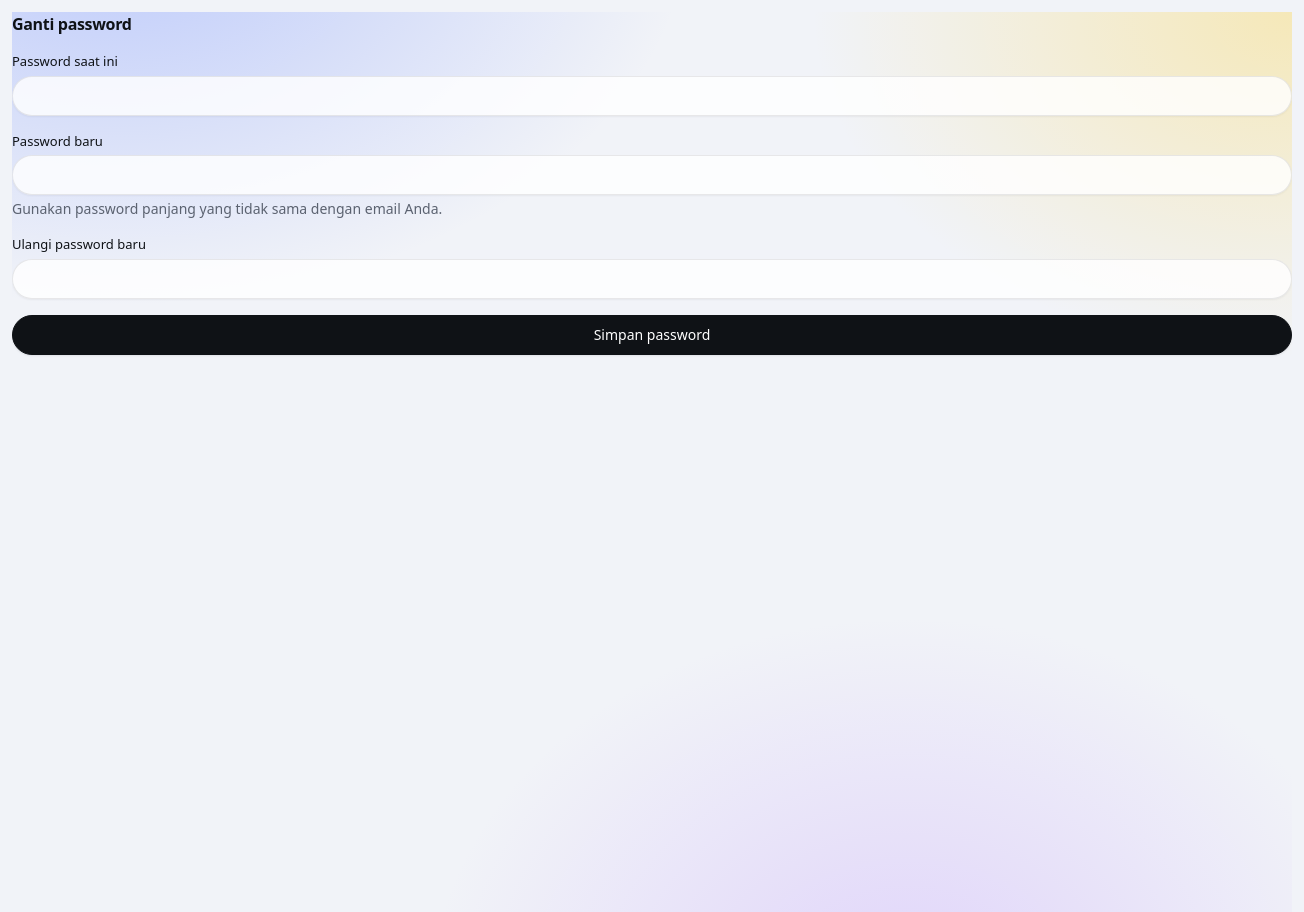
Scenario: ChangePasswordView › rate limit starts cooldown
The width and height of the screenshot is (1304, 912).
Type "sementara-1" into the password field labelled "Password saat ini".
click(652, 96); type("sementara-1")  # box [12,76,1292,116]
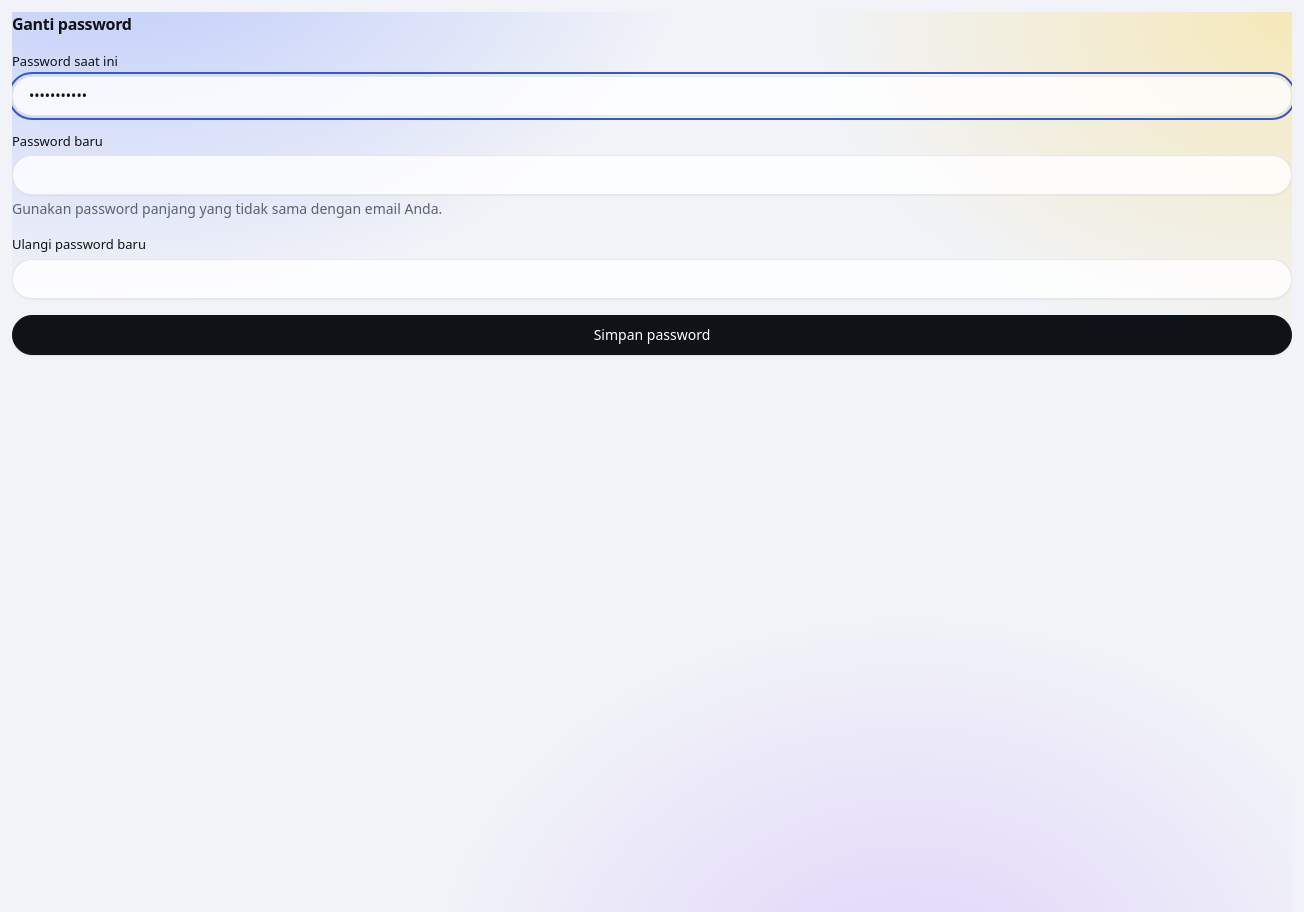
Type "baru-sangat-rahasia" into the password field labelled "Password baru".
click(652, 175); type("baru-sangat-rahasia")  # box [12,155,1292,195]
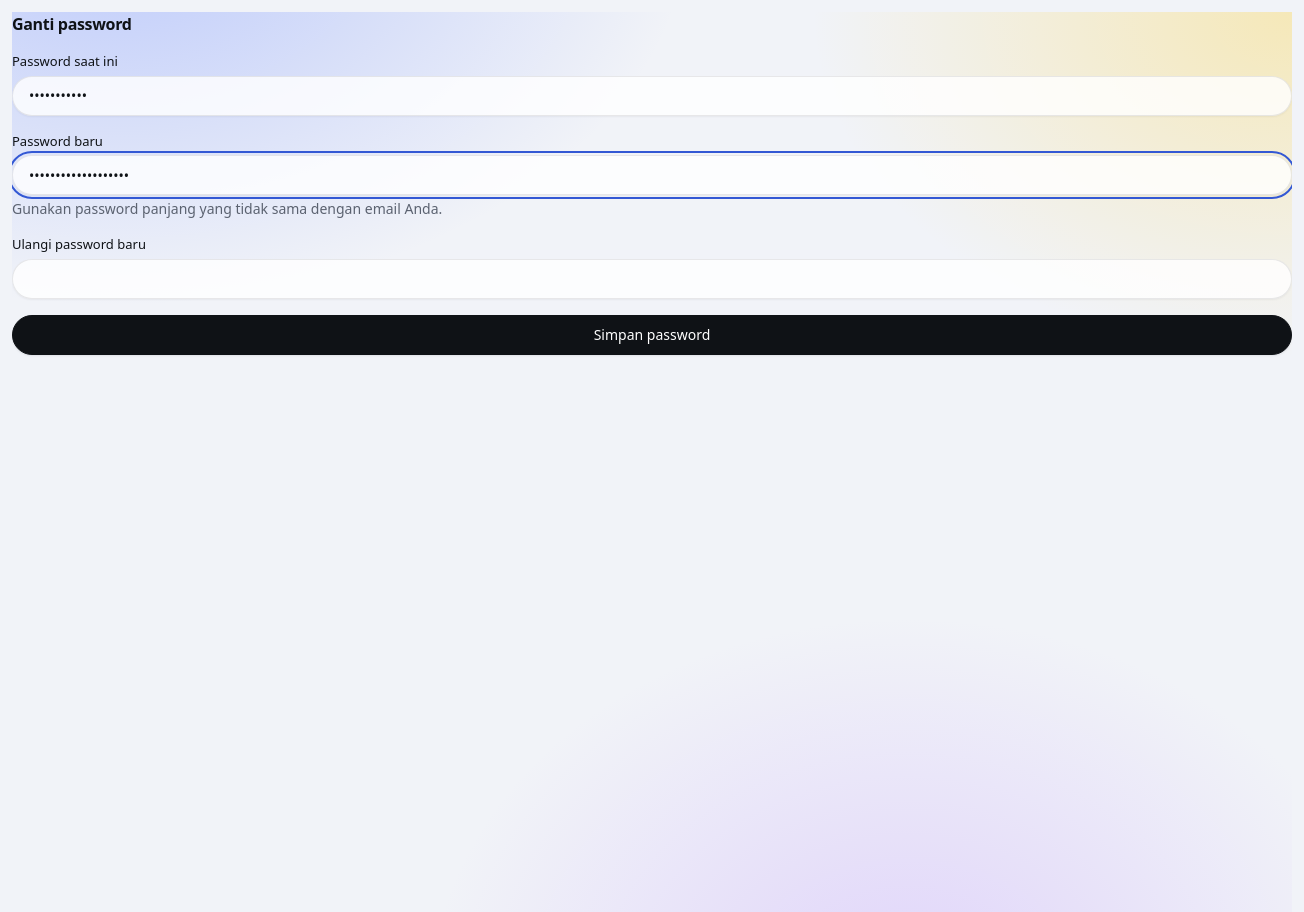
Type "baru-sangat-rahasia" into the password field labelled "Ulangi password baru".
click(652, 278); type("baru-sangat-rahasia")  # box [12,258,1292,298]
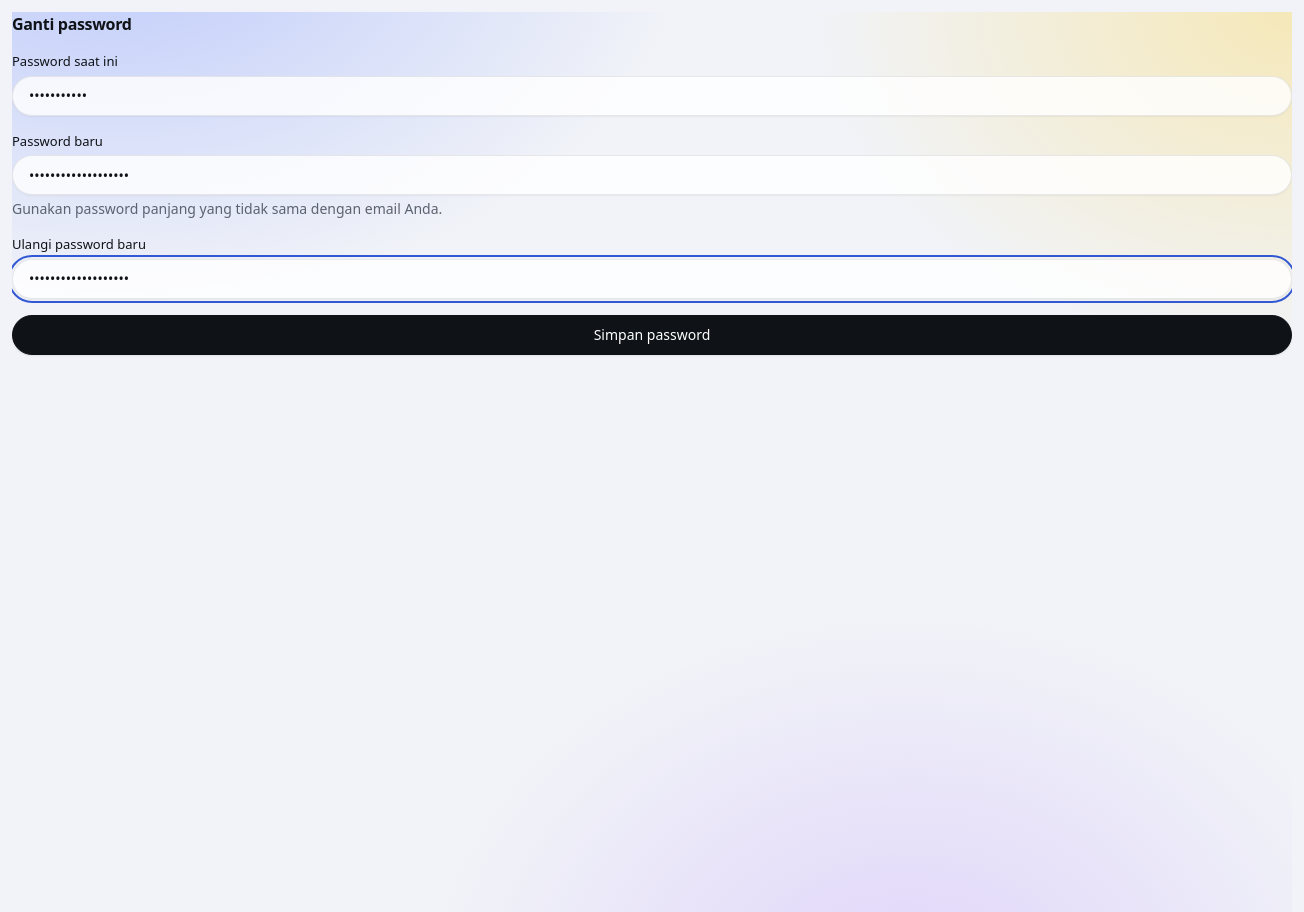
Click the button "Simpan password".
click(652, 334)  # box [12,314,1292,354]
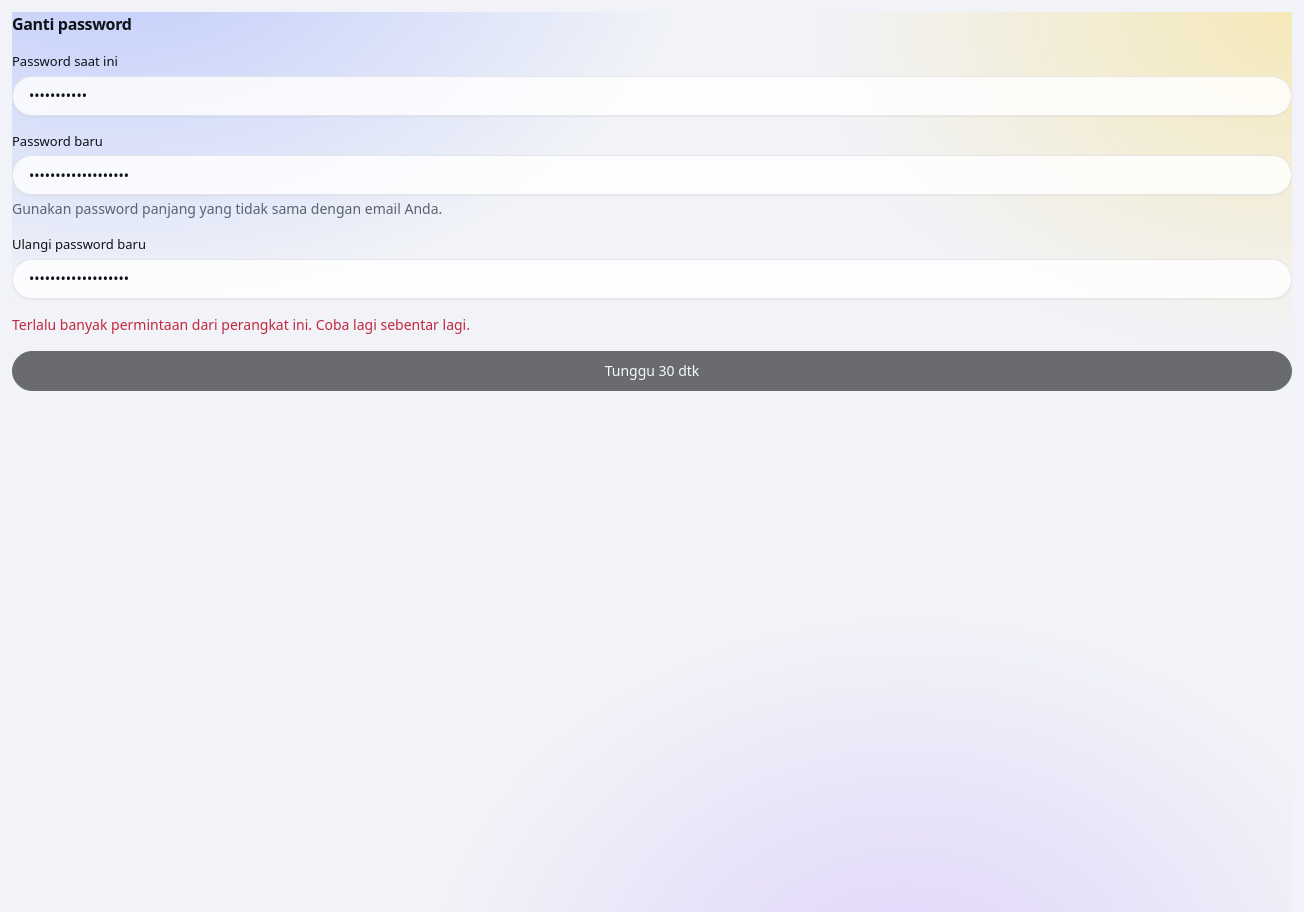
expect the button "Tunggu 30 dtk" is disabled: met, box [12,350,1292,390]
